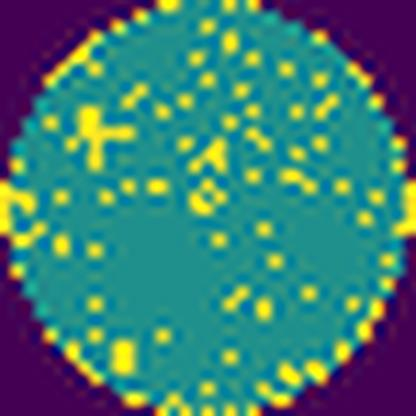Loc: (78, 106, 136, 168), (113, 340, 137, 379)
